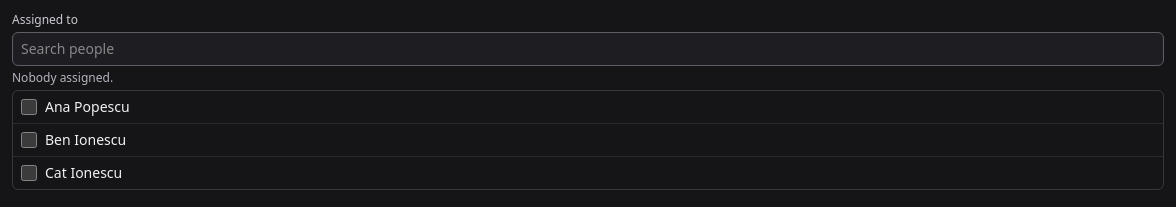
it: AssigneePicker › says so when nobody matches
The image size is (1176, 207).
Step 1. Type "zzz" into the search field labelled "Search people" → point(588, 49), box [12,32,1164,66]
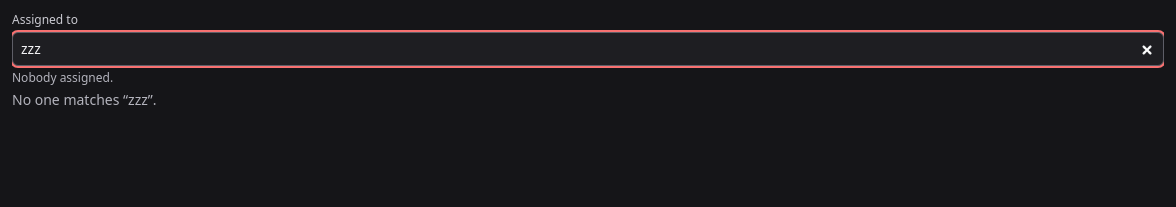
Check: the text "No one matches “zzz”." is shown, box [12,90,157,109]
Check: no checkboxes are shown
